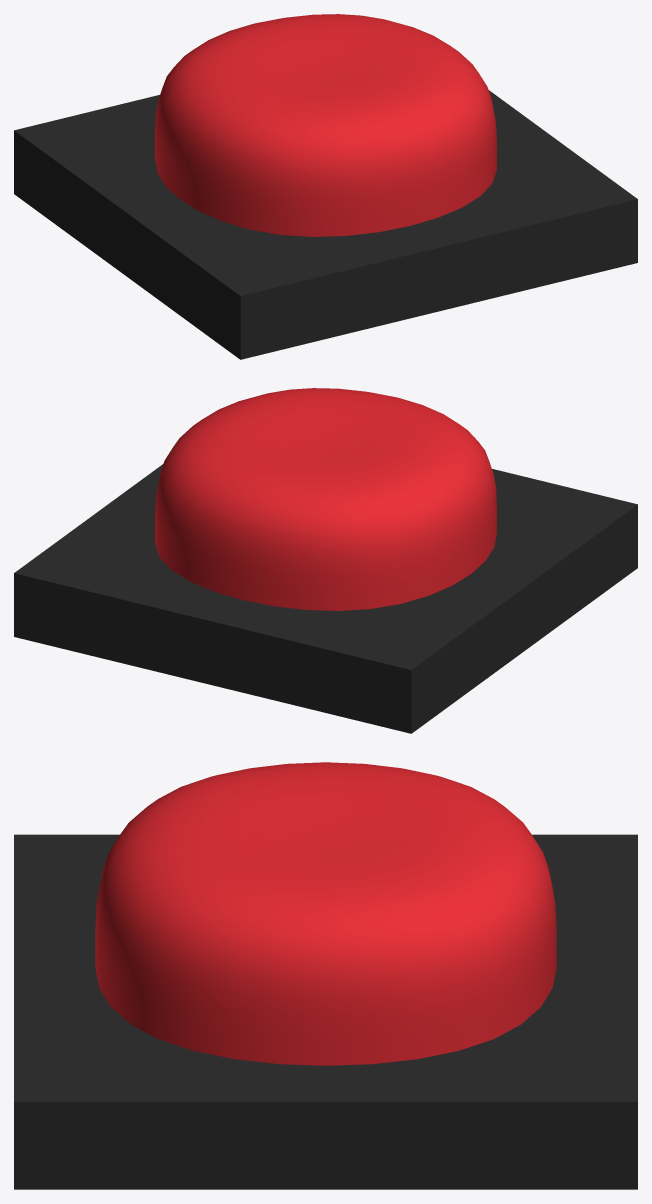
Rendered from Buttons.fbx.
3 views of the same model, one above another, from view 1: azimuth 30°, elevation 25°; view 2: azimuth 150°, elevation 25°; view 3: azimuth 270°, elevation 25° (orthographic). The views are drawn at different scales.
Parts seen in each view (by area): view 1: Cube.001, Cube; view 2: Cube.001, Cube; view 3: Cube.001, Cube.
Part boxes in pixels (box(x1,y1,x2,y2)): Cube.001: box(14, 90, 637, 359); Cube: box(155, 14, 496, 236); Cube.001: box(14, 464, 637, 733); Cube: box(155, 388, 496, 610); Cube.001: box(14, 834, 637, 1189); Cube: box(95, 762, 556, 1065).
Size of the model in its own units: 251 by 107 by 248.
